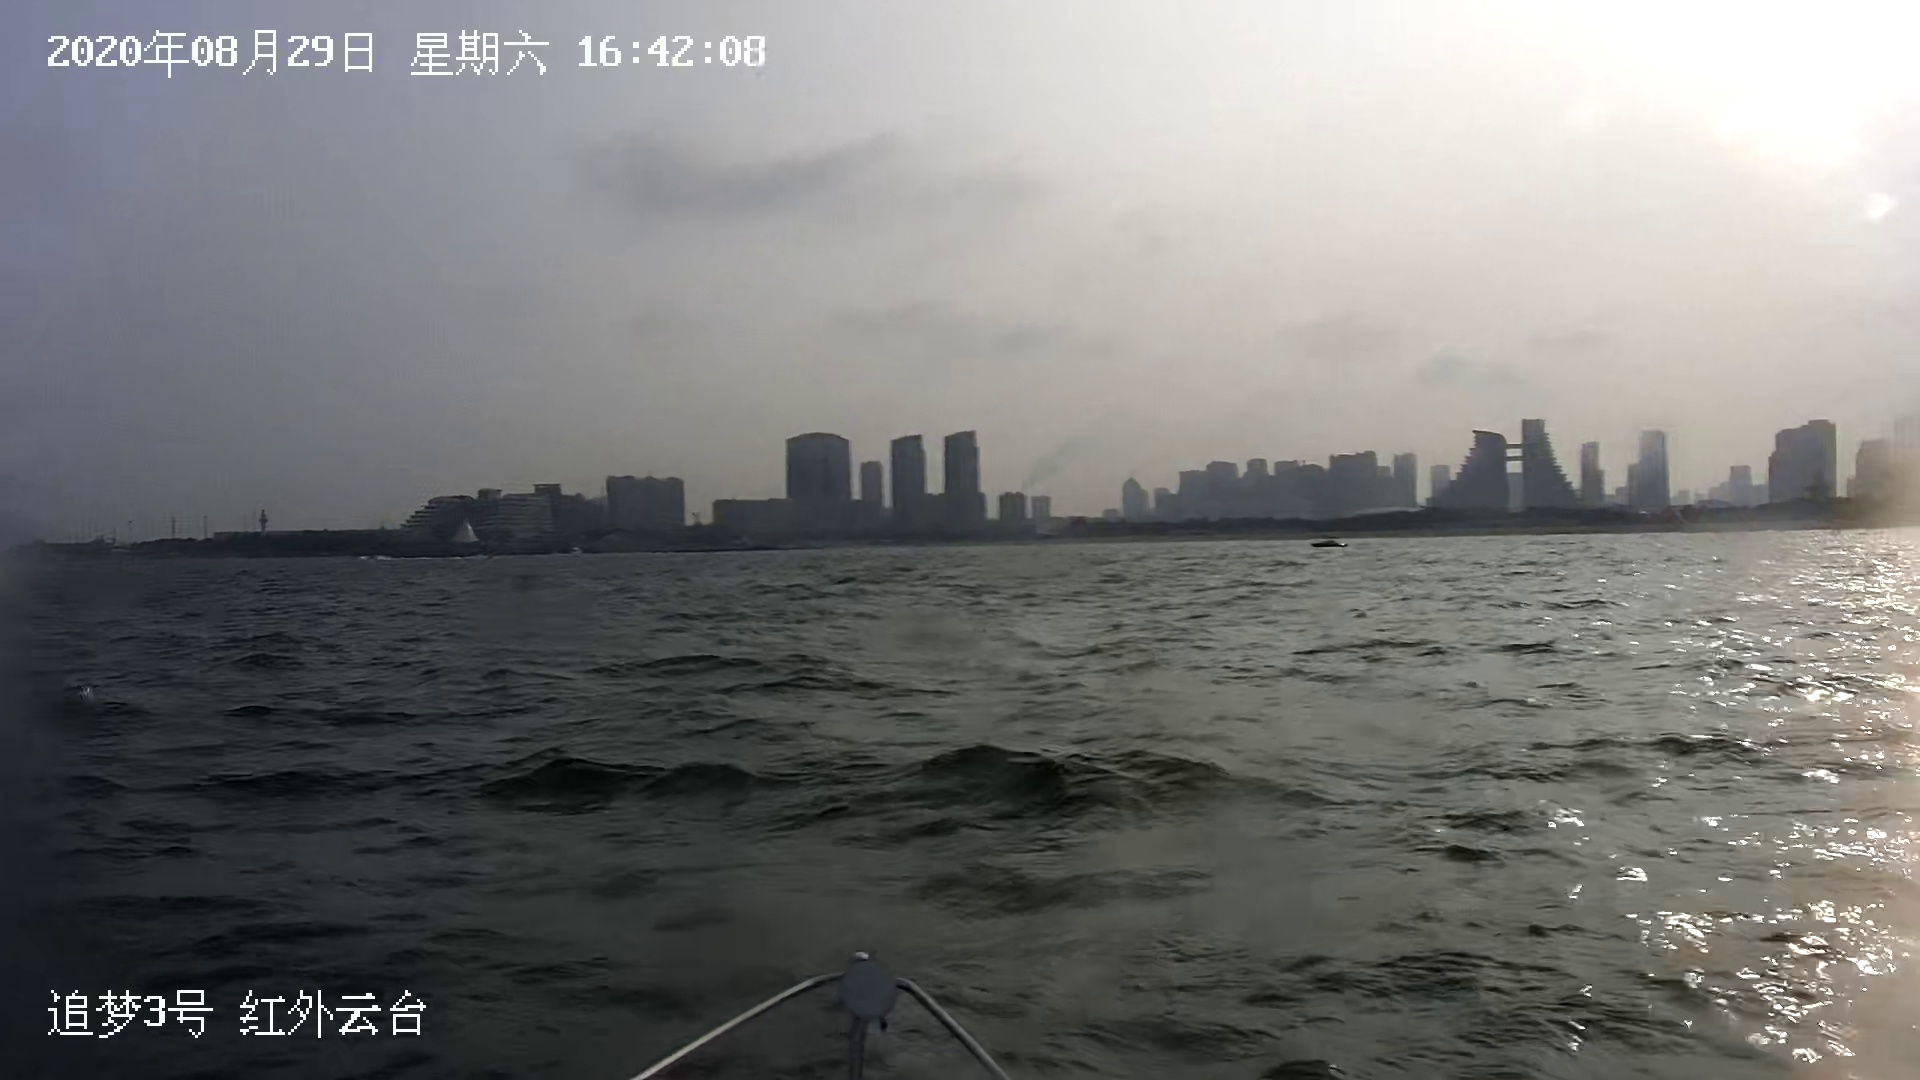barrier: (1305, 539, 1346, 551)
coast: (51, 369, 1920, 559)
